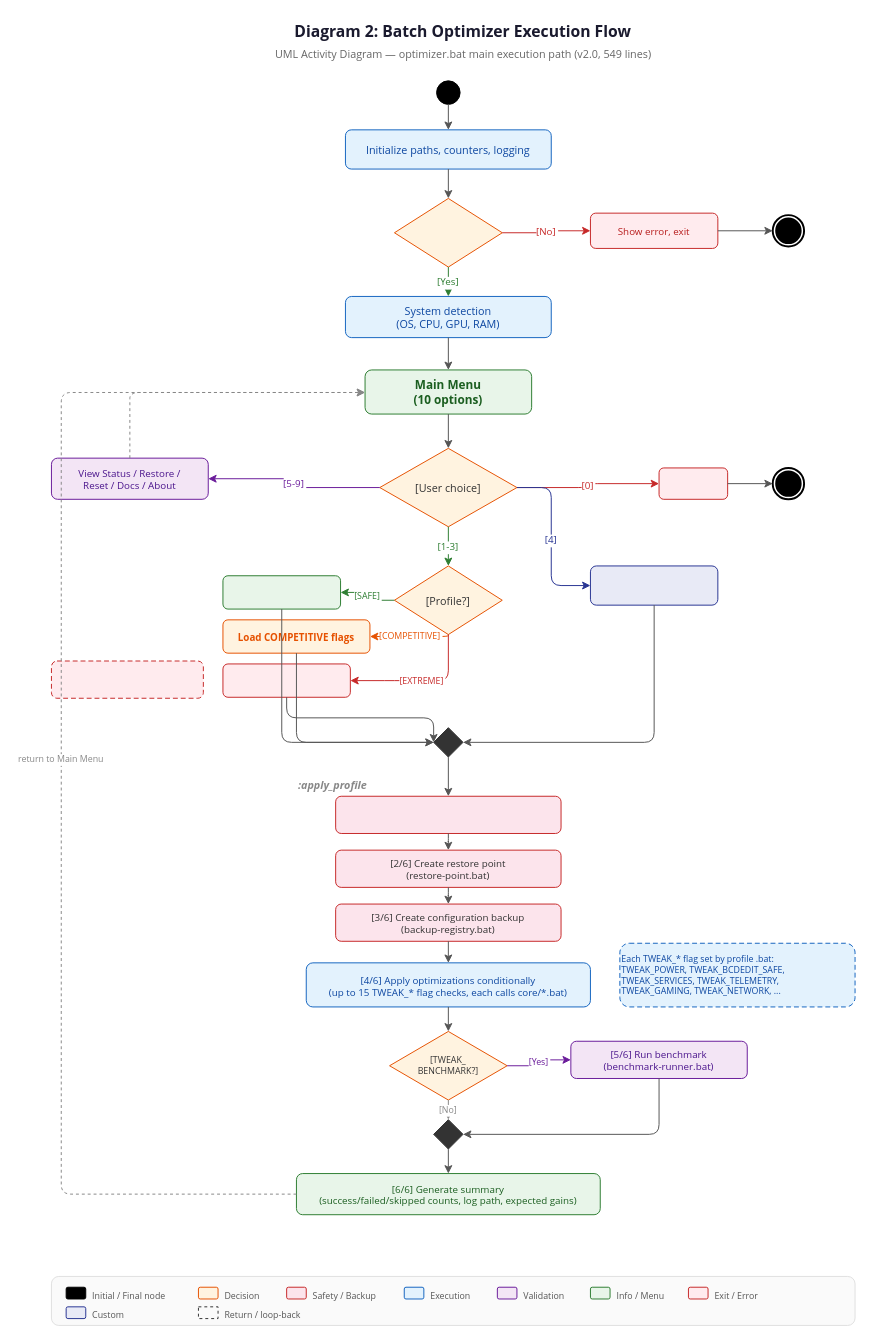
Image size: 872x1343. Some labels were removed from this diagram. Here are the shapes that lost their labels. From the top down, the centre of each, then its label:
At [447,232]: "[Admin?]".
At [693,483]: "Exit".
At [281,592]: "Load SAFE flags".
At [653,585]: "Custom Tweak Selection Menu".
At [126,679]: "EXTREME requires user confirmation (Y/N)".
At [286,680]: "Load EXTREME flags".
At [448,814]: "[1/6] Create registry snapshot (flight-recorder.bat)".
